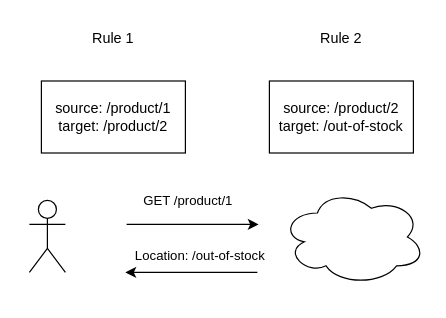
Image size: 446x318. Some labels were removed from this diagram. The centre of each missing label's shape, as x and y in pixels:
altitude platform: [352,236]
Browser: [46,235]
